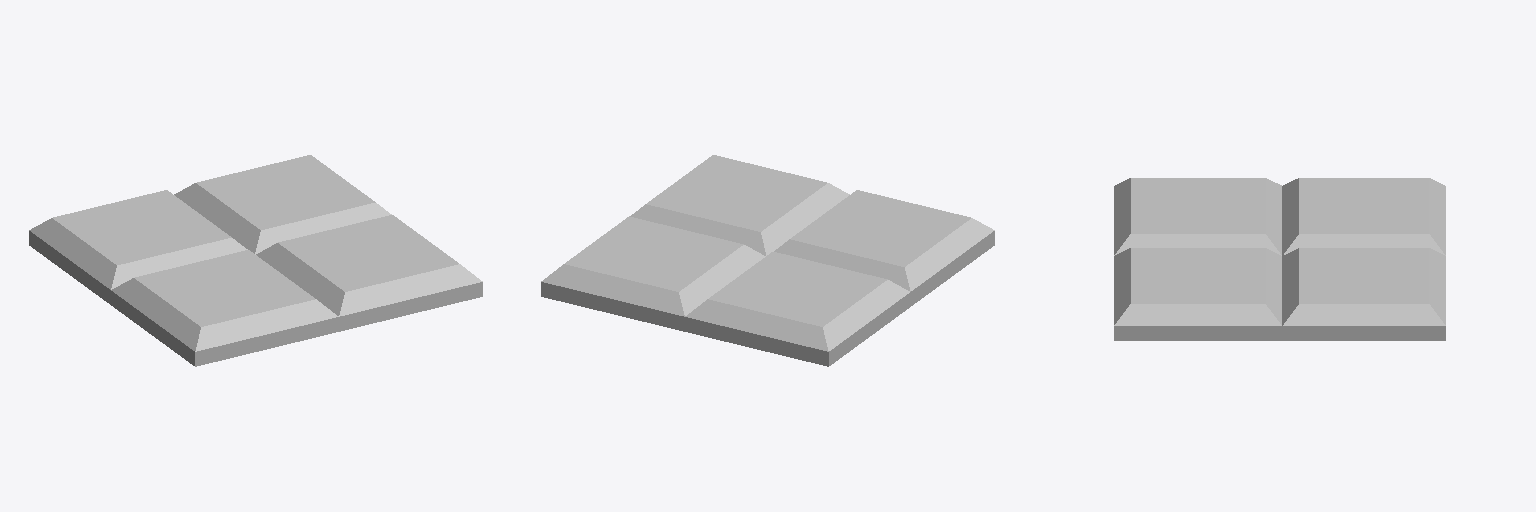
Rendered from Tile.obj.
The picture shows the model from 3 angles: view 1: azimuth 30°, elevation 25°; view 2: azimuth 150°, elevation 25°; view 3: azimuth 270°, elevation 25°; orthographic projection.
Parts seen in each view (by area): view 1: obj_0.010; view 2: obj_0.010; view 3: obj_0.010.
Part boxes in pixels (left/top/right/bottom): obj_0.010: left=29, top=155, right=482, bottom=366; obj_0.010: left=541, top=155, right=994, bottom=366; obj_0.010: left=1114, top=178, right=1445, bottom=340.
Size of the model in its own units: 20 by 2 by 20.